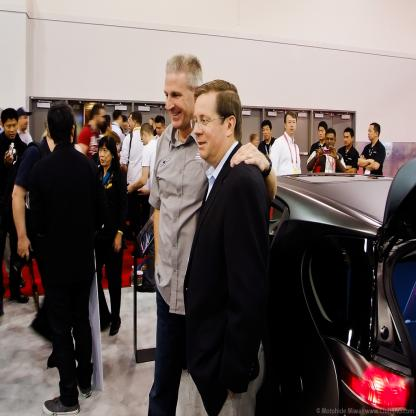Car: (273, 170, 416, 416)
